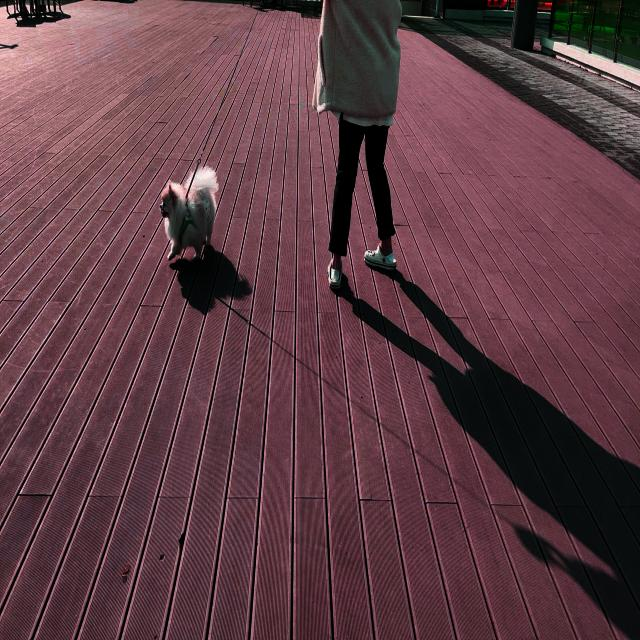Leashed_Dog: (158, 0, 368, 263)
